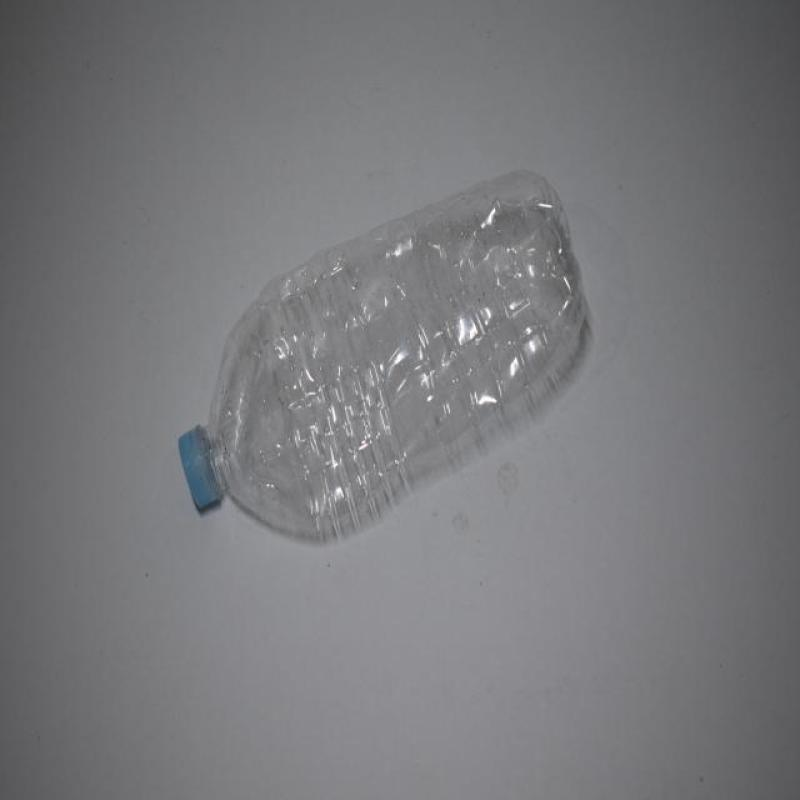botella: (175, 168, 587, 550)
